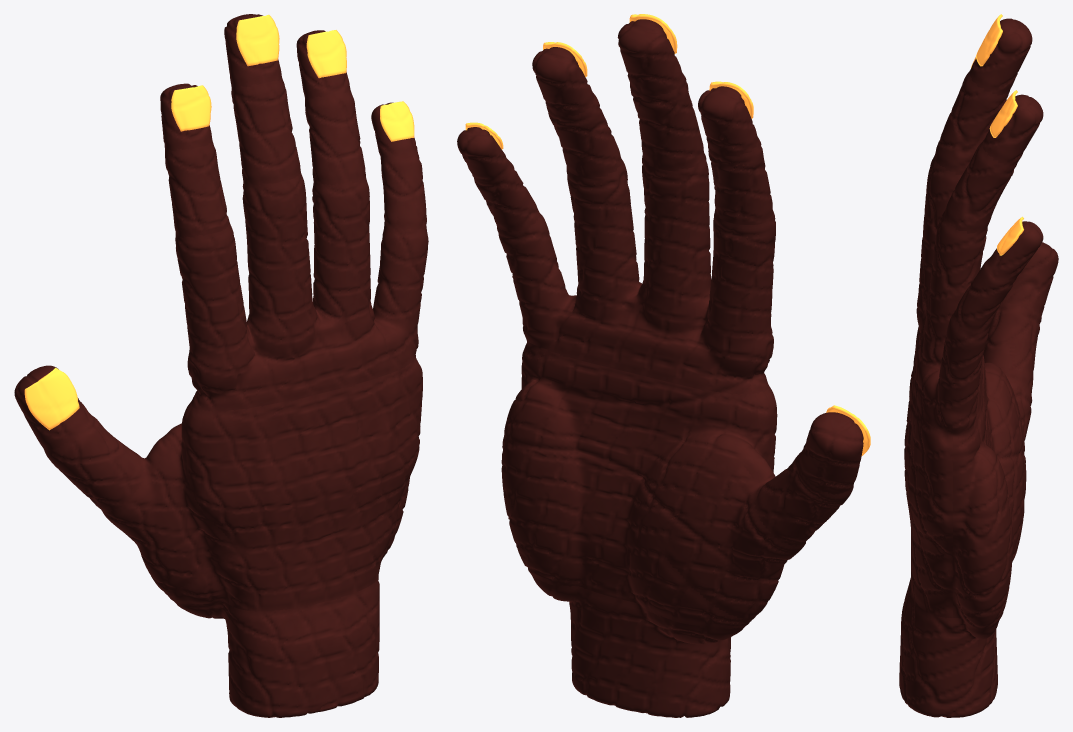
Rendered from family-15.glb.
3 views of the same model, side by side, from view 1: azimuth 30°, elevation 25°; view 2: azimuth 150°, elevation 25°; view 3: azimuth 270°, elevation 25° (orthographic). The views are drawn at different scales.
Visible parts, largest first — view 1: knuckles__knuckles_sculpt, back_of_hand__back_of_hand_sculpt, middle_sections__middle_sections_sculpt, wrist__wrist_sculpt, fingertips__fingertips_sculpt, palm__palm_sculpt, nails__thumb_claw, nails__middle_claw, nails__ring_claw, nails__index_claw, nails__pinky_claw; view 2: knuckles__knuckles_sculpt, palm__palm_sculpt, middle_sections__middle_sections_sculpt, wrist__wrist_sculpt, fingertips__fingertips_sculpt; view 3: palm__palm_sculpt, knuckles__knuckles_sculpt, middle_sections__middle_sections_sculpt, wrist__wrist_sculpt, back_of_hand__back_of_hand_sculpt, fingertips__fingertips_sculpt, nails__middle_claw, nails__ring_claw, nails__pinky_claw.
Boxes of the visible parts, x1=… form: knuckles__knuckles_sculpt: x1=101, y1=173, x2=428, y2=593; back_of_hand__back_of_hand_sculpt: x1=185, y1=355, x2=422, y2=611; middle_sections__middle_sections_sculpt: x1=44, y1=78, x2=426, y2=512; wrist__wrist_sculpt: x1=175, y1=558, x2=382, y2=717; fingertips__fingertips_sculpt: x1=14, y1=14, x2=418, y2=450; palm__palm_sculpt: x1=165, y1=401, x2=409, y2=604; nails__thumb_claw: x1=24, y1=367, x2=79, y2=430; nails__middle_claw: x1=236, y1=14, x2=279, y2=66; nails__ring_claw: x1=306, y1=30, x2=346, y2=78; nails__index_claw: x1=171, y1=85, x2=211, y2=131; nails__pinky_claw: x1=380, y1=101, x2=414, y2=141; knuckles__knuckles_sculpt: x1=497, y1=153, x2=805, y2=619; palm__palm_sculpt: x1=501, y1=340, x2=772, y2=629; middle_sections__middle_sections_sculpt: x1=472, y1=73, x2=853, y2=545; wrist__wrist_sculpt: x1=532, y1=576, x2=744, y2=717; fingertips__fingertips_sculpt: x1=457, y1=19, x2=863, y2=494; palm__palm_sculpt: x1=951, y1=355, x2=1024, y2=629; knuckles__knuckles_sculpt: x1=913, y1=155, x2=1032, y2=499; middle_sections__middle_sections_sculpt: x1=934, y1=71, x2=1041, y2=393; wrist__wrist_sculpt: x1=899, y1=562, x2=1012, y2=717; back_of_hand__back_of_hand_sculpt: x1=904, y1=366, x2=952, y2=618; fingertips__fingertips_sculpt: x1=969, y1=18, x2=1058, y2=315; nails__middle_claw: x1=976, y1=14, x2=1002, y2=66; nails__ring_claw: x1=989, y1=90, x2=1017, y2=137; nails__pinky_claw: x1=997, y1=216, x2=1023, y2=255.
Size of the model in its own units: 0.1315 by 0.2173 by 0.0478.
2 materials, 1 textured.
